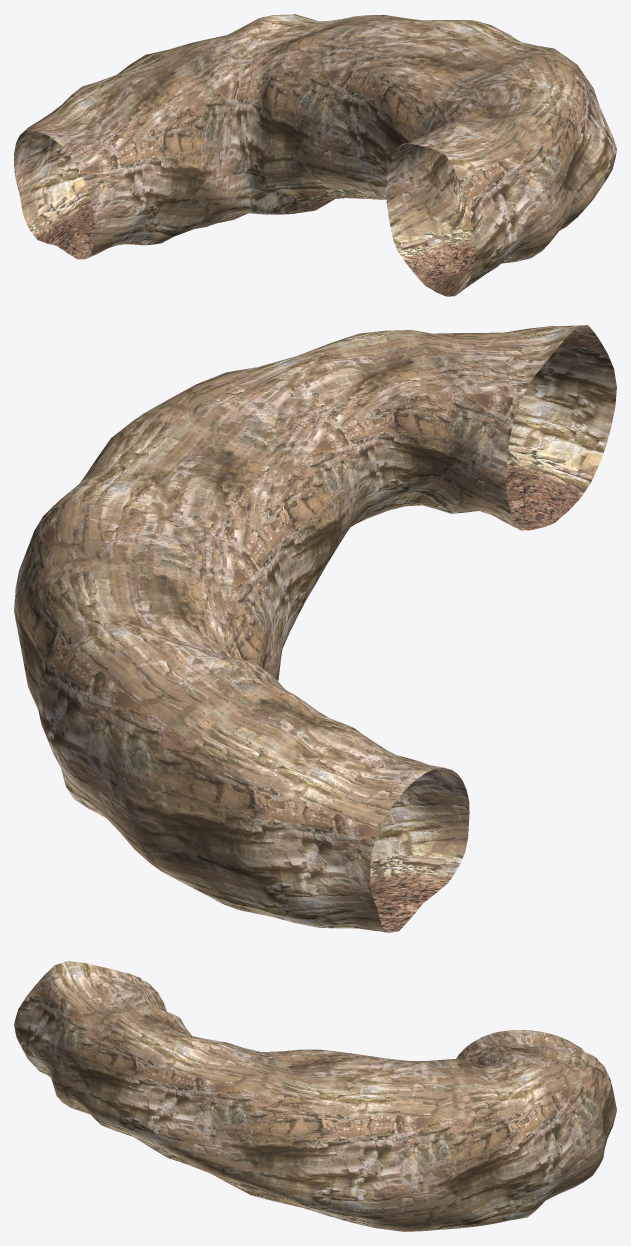
The model's file is thm_tato_cave_s01_r10_mesh_r10.fbx.
3 renders of one model, top to bottom at view 1: azimuth 30°, elevation 25°; view 2: azimuth 150°, elevation 25°; view 3: azimuth 270°, elevation 25°, orthographic. The views are drawn at different scales.
Visible parts, largest first — view 1: mesh_node; view 2: mesh_node; view 3: mesh_node.
Boxes of the visible parts, <box> form: mesh_node: <box>14,14,616,296</box>; mesh_node: <box>14,325,616,932</box>; mesh_node: <box>14,961,616,1231</box>.
Size of the model in its own units: 32.68 by 20.77 by 48.56.
